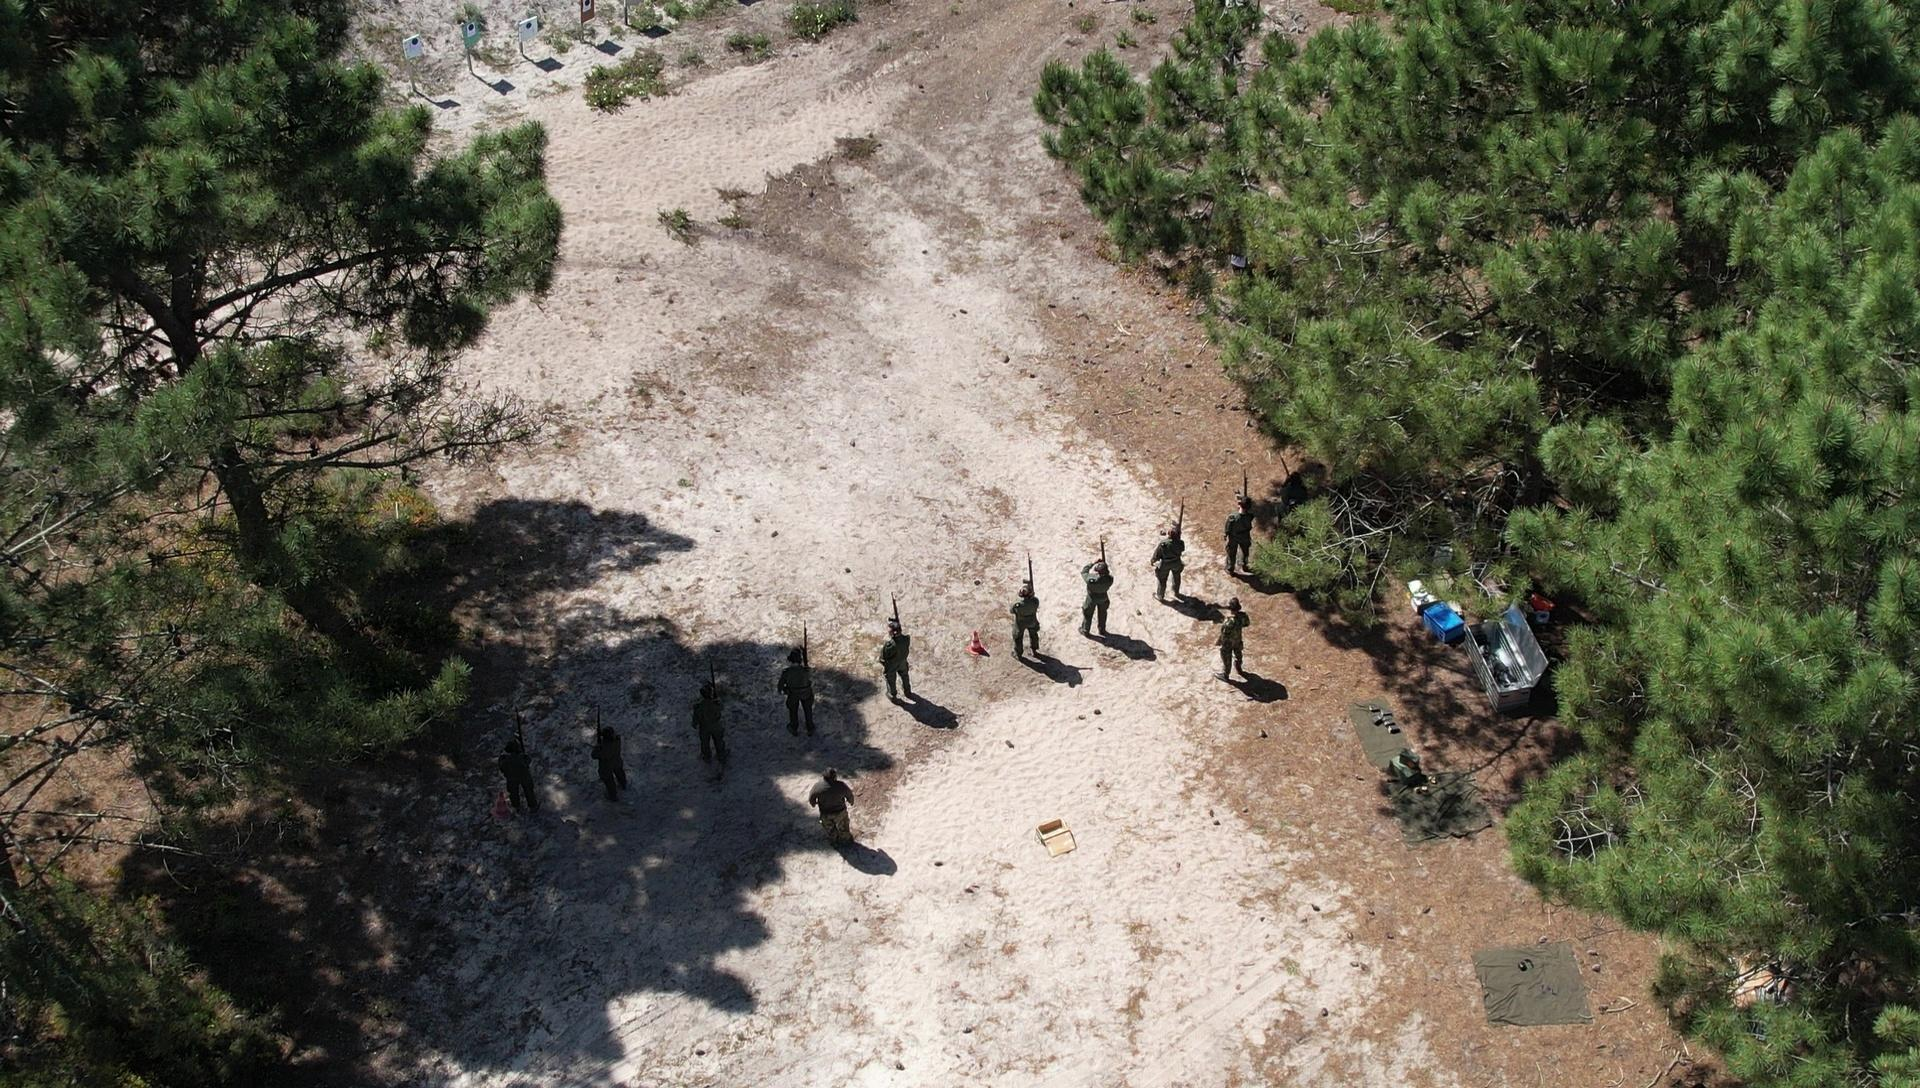Soldier: (487, 711, 549, 835), (771, 621, 828, 748), (687, 663, 741, 783), (803, 764, 866, 862), (1207, 588, 1265, 694), (585, 698, 636, 816), (1005, 563, 1054, 679), (878, 597, 918, 721), (1077, 533, 1120, 649), (1149, 502, 1189, 608), (1224, 464, 1261, 568)
